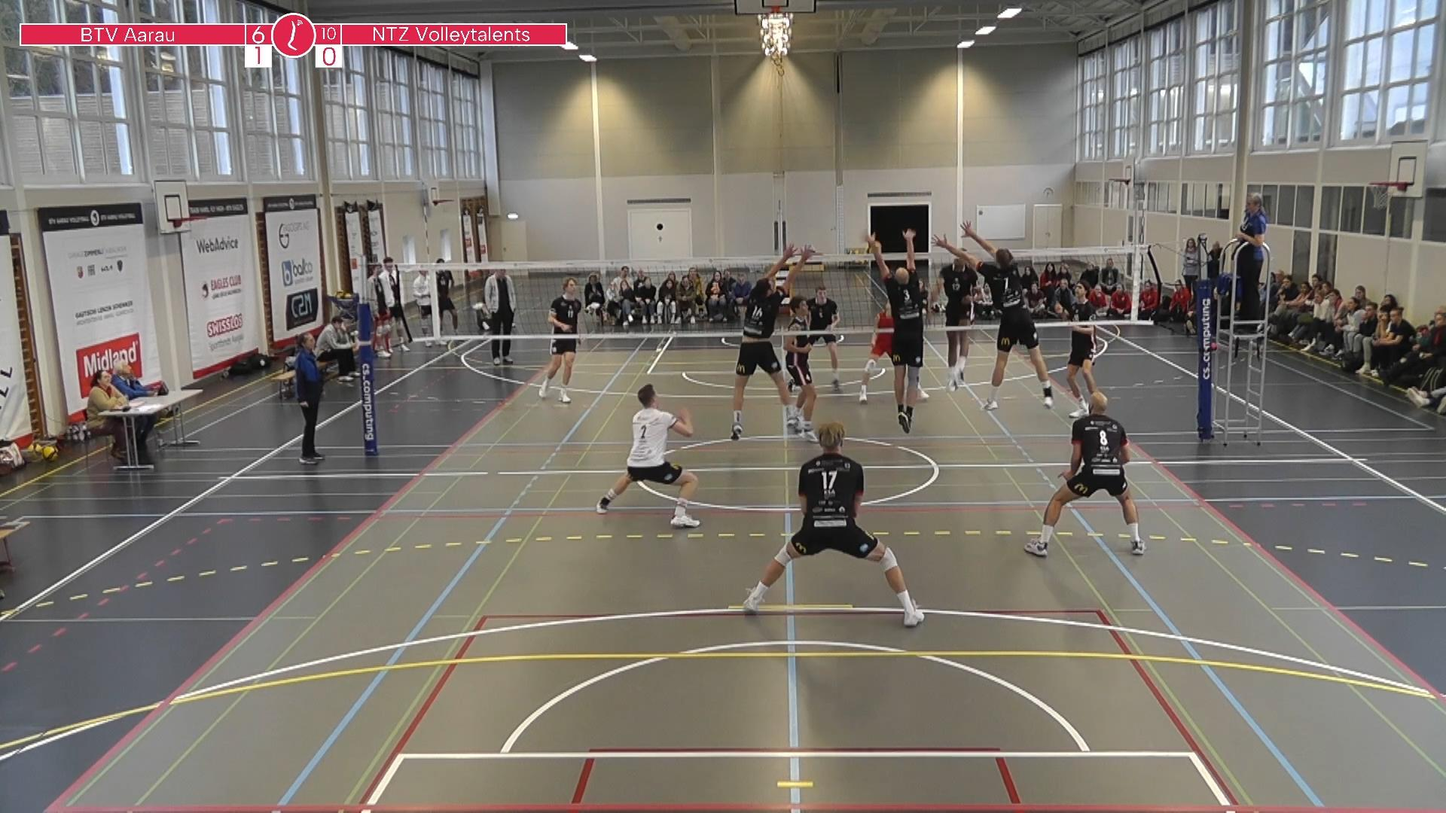attacco: (934, 244, 981, 397)
muro: (933, 219, 1059, 407), (862, 231, 945, 425)
